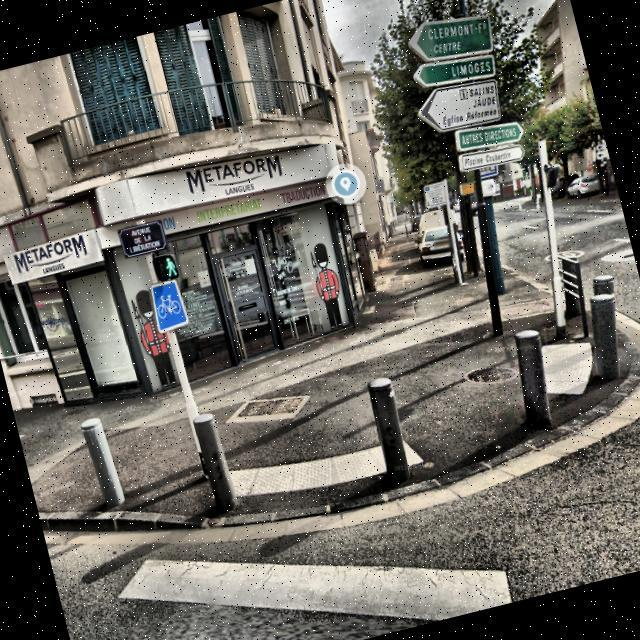green_light: (160, 252, 178, 279)
